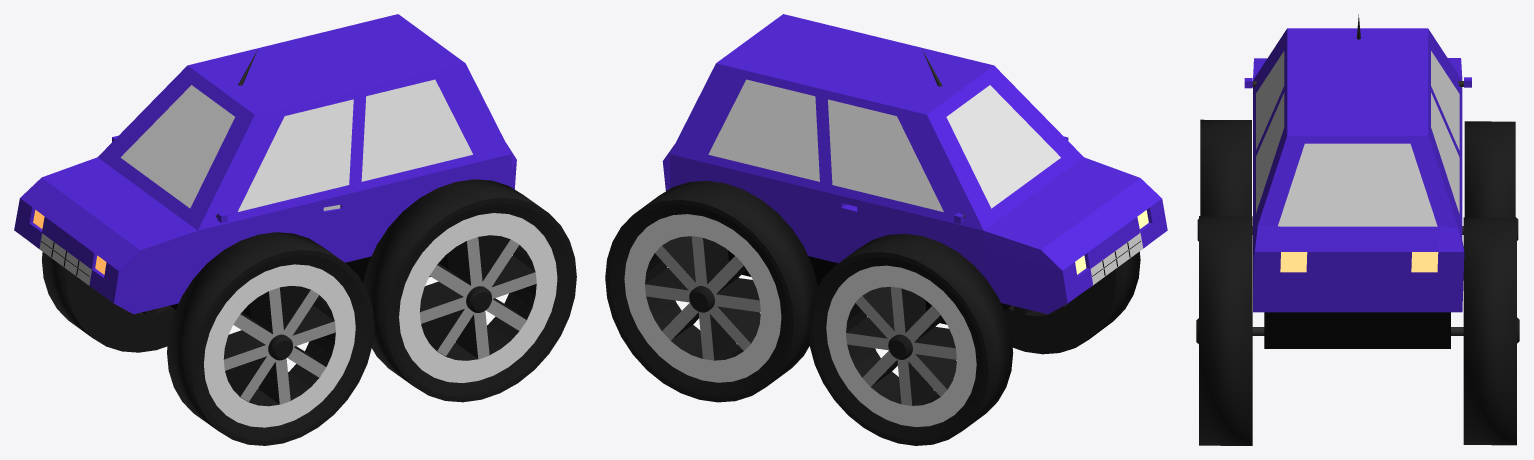
The model's file is car4.fbx.
3 views of the same model, side by side, from view 1: azimuth 30°, elevation 25°; view 2: azimuth 150°, elevation 25°; view 3: azimuth 270°, elevation 25° (orthographic). The views are drawn at different scales.
Parts seen in each view (by area): view 1: Cube; view 2: Cube; view 3: Cube.
Part boxes in pixels (x1=…): Cube: x1=14, y1=14, x2=576, y2=445; Cube: x1=605, y1=14, x2=1167, y2=445; Cube: x1=1196, y1=14, x2=1519, y2=445.
Size of the model in its own units: 4.47 by 3.24 by 2.74.
